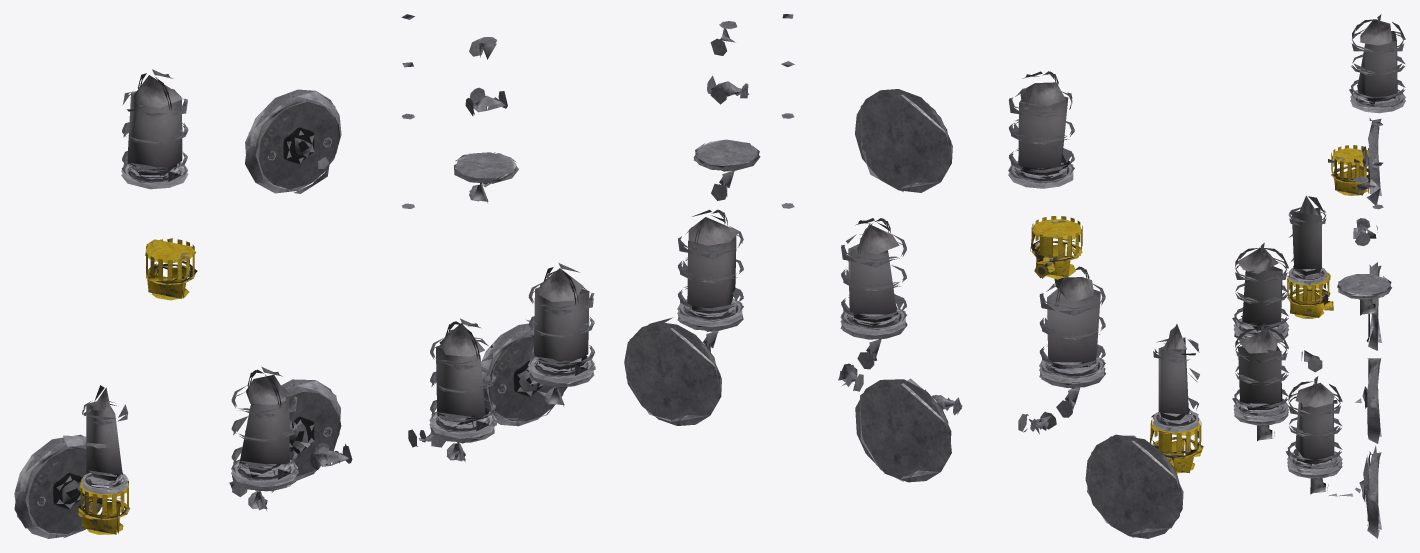
Rendered from ph_industrial_caged_sconce.glb.
3 renders of one model, left to right at view 1: azimuth 30°, elevation 25°; view 2: azimuth 150°, elevation 25°; view 3: azimuth 270°, elevation 25°, orthographic. The views are drawn at different scales.
Parts seen in each view (by area): view 1: industrial_caged_sconce_b; view 2: industrial_caged_sconce_b; view 3: industrial_caged_sconce_b.
Part boxes in pixels (x1=…): industrial_caged_sconce_b: x1=14, y1=14, x2=595, y2=538; industrial_caged_sconce_b: x1=624, y1=14, x2=1203, y2=538; industrial_caged_sconce_b: x1=1232, y1=14, x2=1405, y2=538.
Bounding box in the file's own units: 1.21 × 0.9244 × 0.3936.
1 material, 1 textured.
